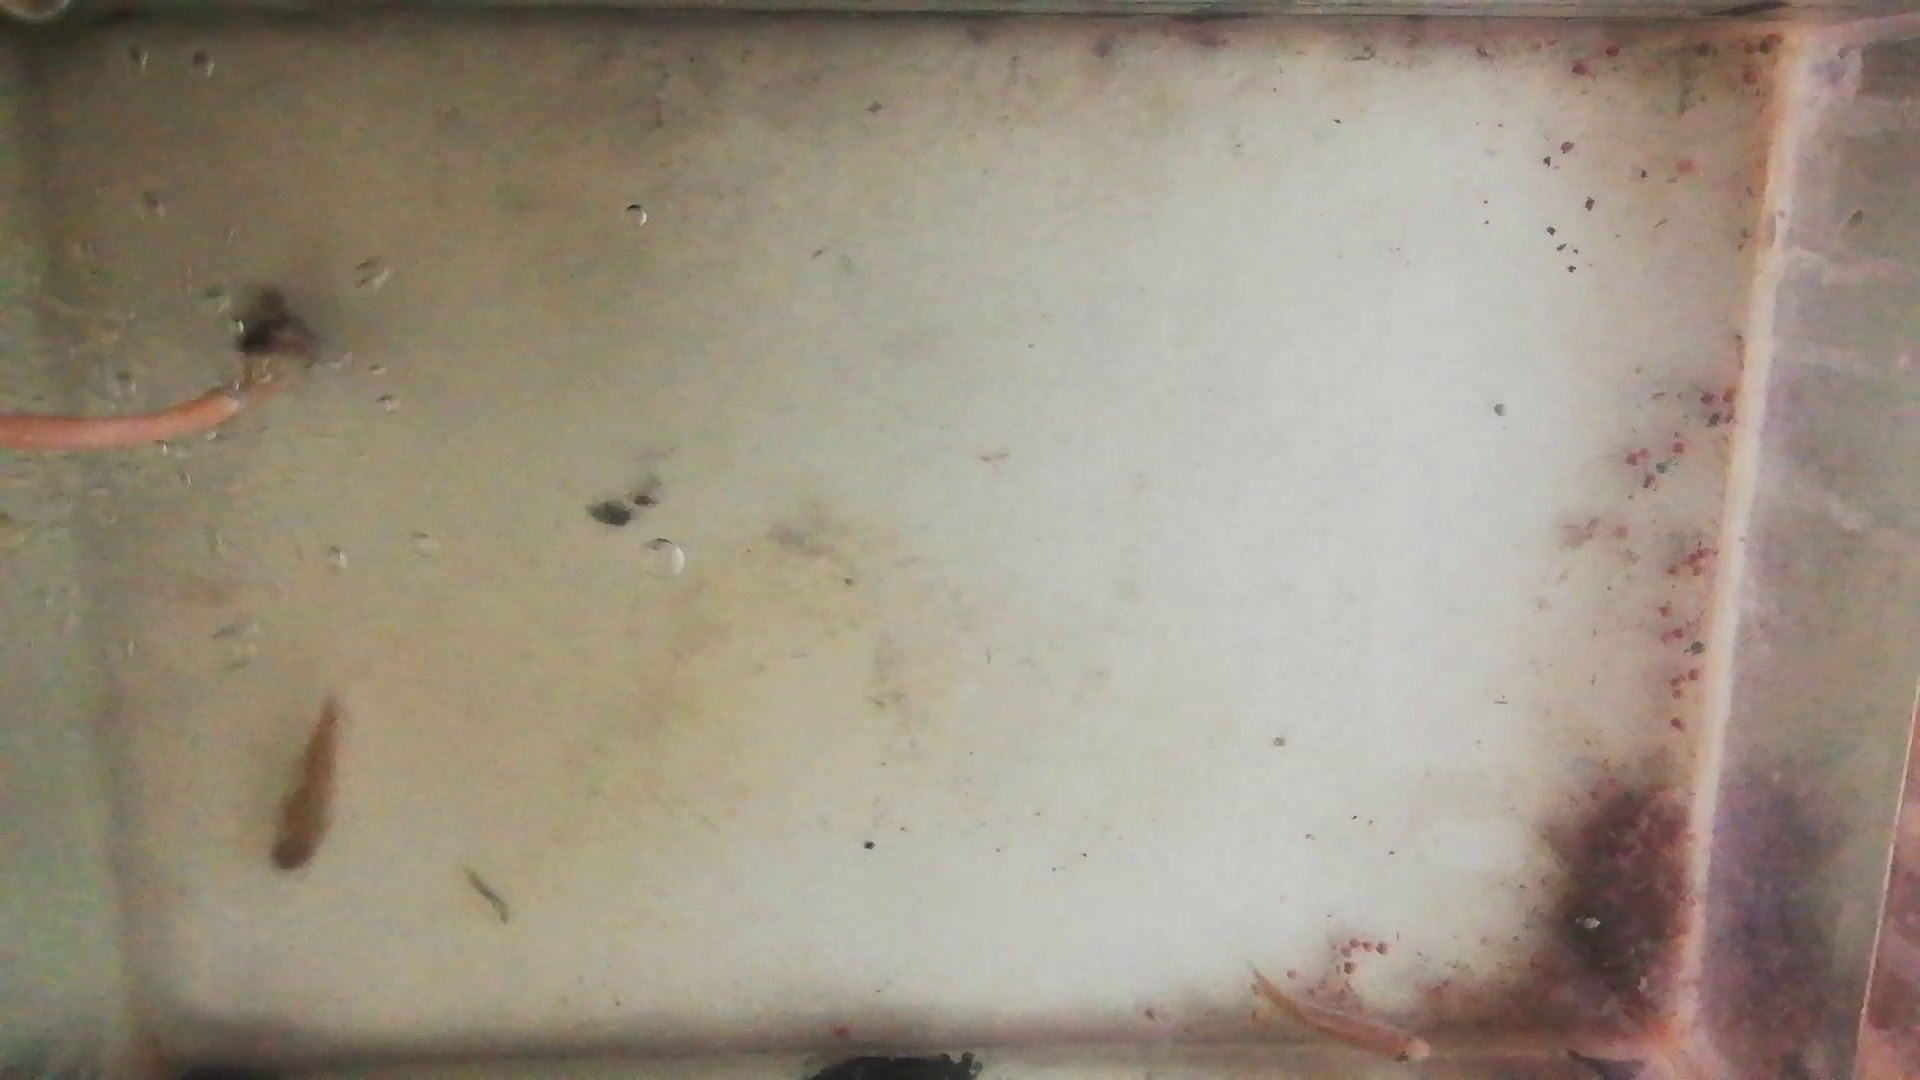fish: (1251, 971, 1429, 1059), (272, 694, 343, 873)
